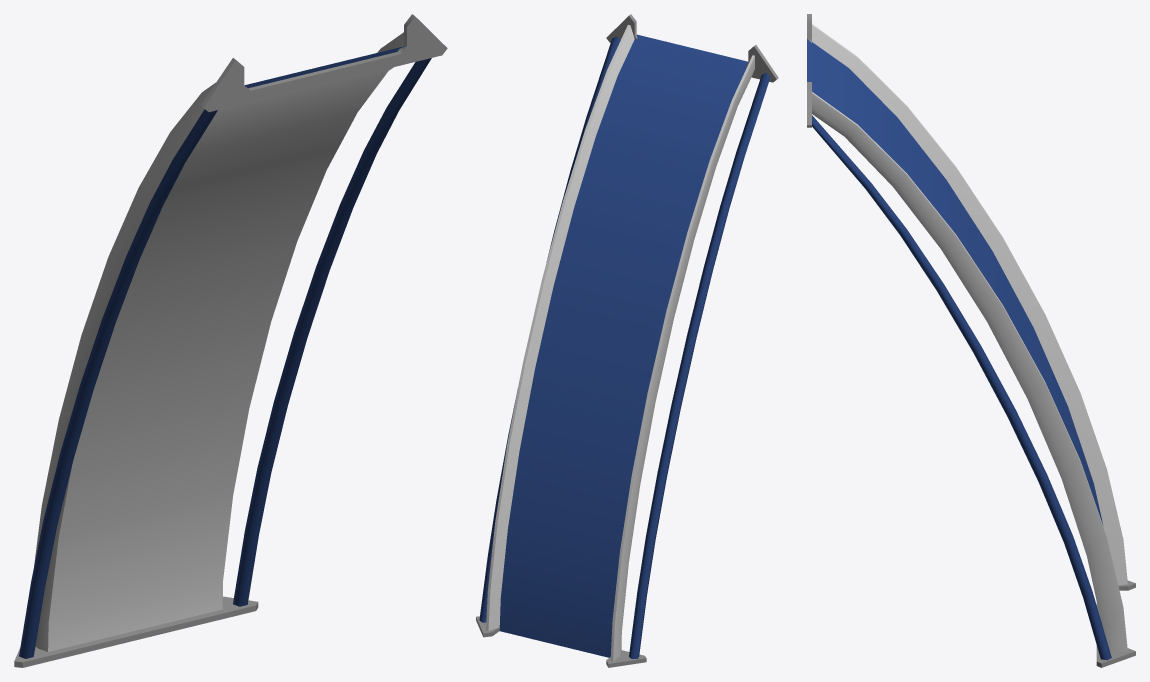
File: RacetrackSlightlyUp.fbx
The picture shows the model from 3 angles, left to right: view 1: azimuth 30°, elevation 25°; view 2: azimuth 150°, elevation 25°; view 3: azimuth 270°, elevation 25°; orthographic projection. The views are drawn at different scales.
Parts seen in each view (by area): view 1: RacetrackStraightLong.023, RacetrackStraightLong.022, RacetrackStraightLong.020; view 2: RacetrackStraightLong.020, RacetrackStraightLong.023, RacetrackStraightLong.022; view 3: RacetrackStraightLong.023, RacetrackStraightLong.020, RacetrackStraightLong.022.
Part boxes in pixels (<box>): RacetrackStraightLong.023: <box>34,32,403,651</box>; RacetrackStraightLong.022: <box>14,14,447,667</box>; RacetrackStraightLong.020: <box>245,45,406,88</box>; RacetrackStraightLong.020: <box>499,34,748,657</box>; RacetrackStraightLong.023: <box>486,25,754,661</box>; RacetrackStraightLong.022: <box>476,14,778,667</box>; RacetrackStraightLong.023: <box>812,24,1127,651</box>; RacetrackStraightLong.020: <box>807,38,1103,525</box>; RacetrackStraightLong.022: <box>807,14,1135,667</box>.
Bounding box in the file's own units: 3604 × 10407 × 5407.
